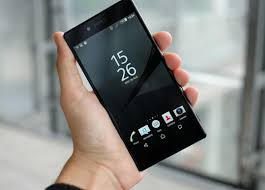sony: (62, 1, 205, 174)
